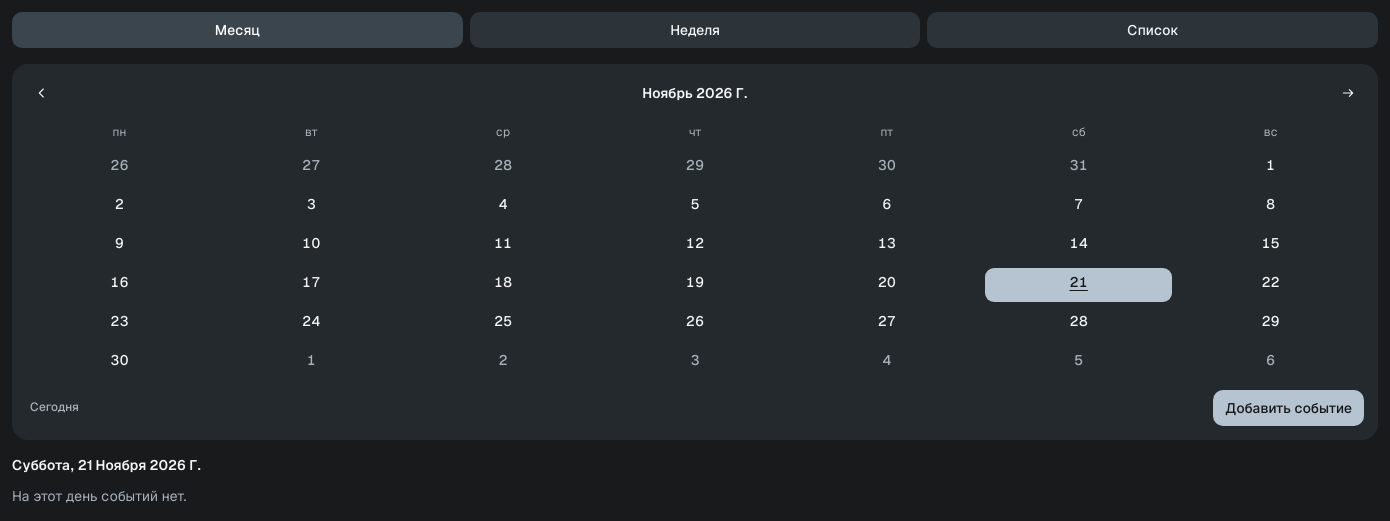
Test: starts empty without fabricated events and switches month week list
The width and height of the screenshot is (1390, 521).
expect the text "На этот день событий нет." is shown: met, box [12, 487, 187, 505]
Click the button "Неделя": (695, 30) [470, 12, 920, 48]
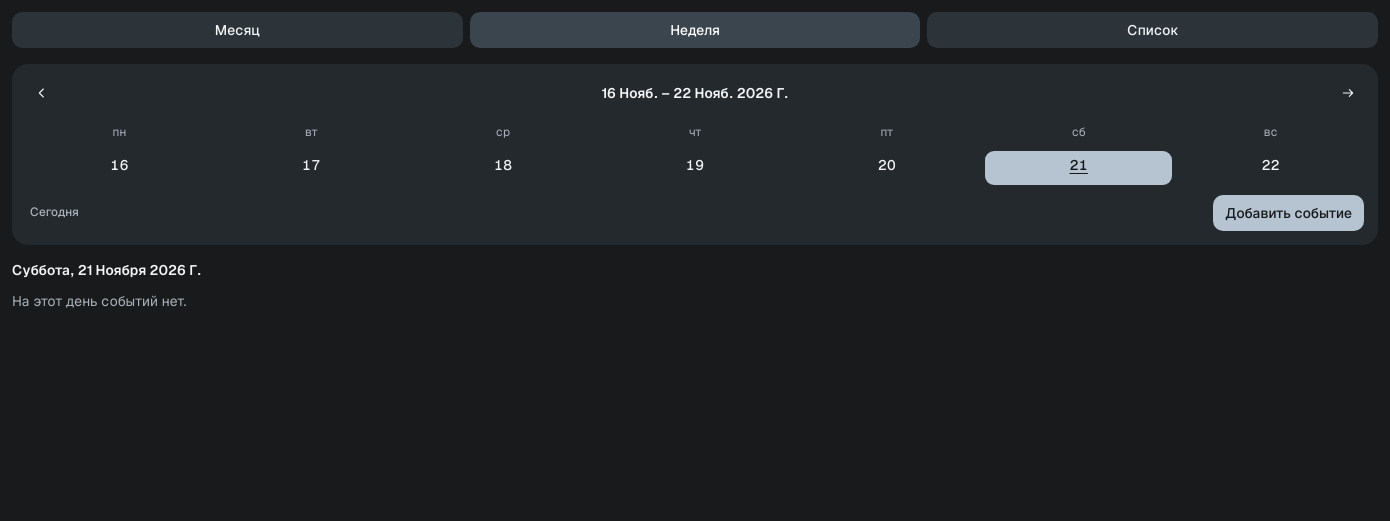
Click the button "Список": (1153, 30) [927, 12, 1378, 48]
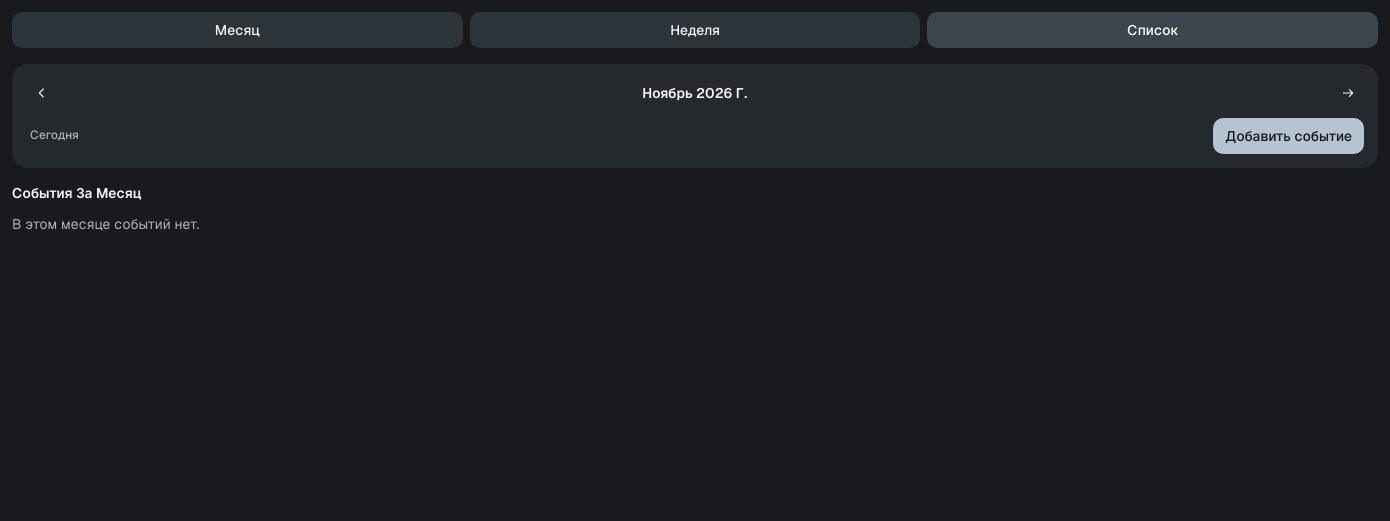
expect the text "В этом месяце событий нет." is shown: met, box [12, 215, 200, 233]
